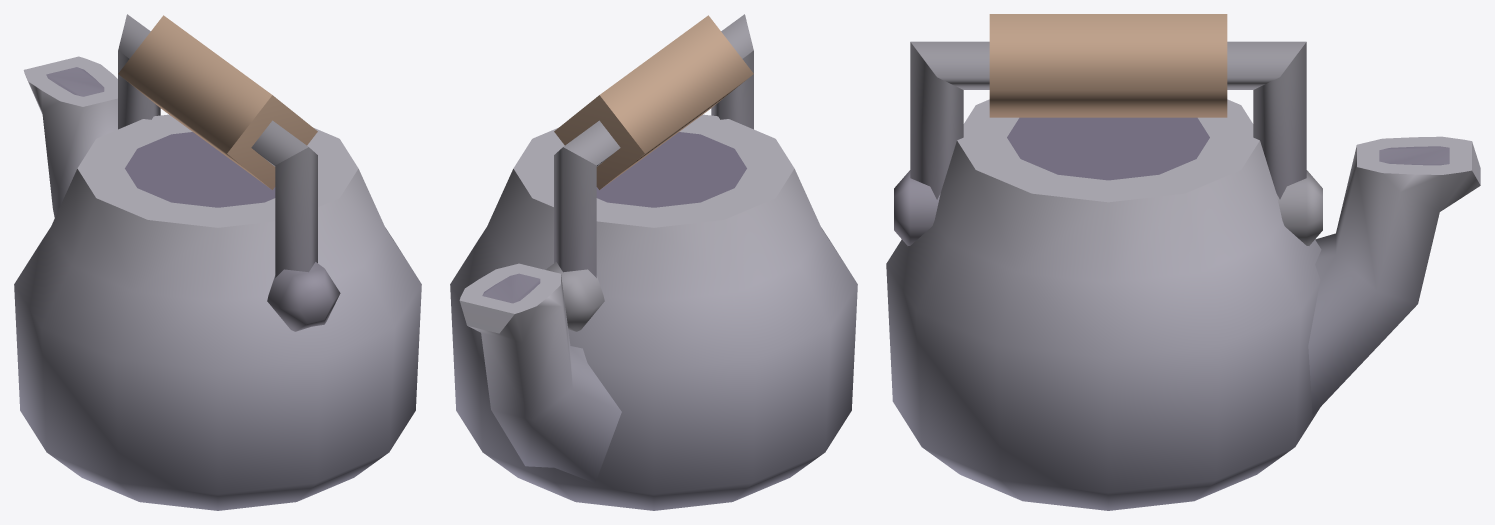
The model's file is tea-kettle.glb.
3 views of the same model, side by side, from view 1: azimuth 30°, elevation 25°; view 2: azimuth 150°, elevation 25°; view 3: azimuth 270°, elevation 25° (orthographic). The views are drawn at different scales.
Parts seen in each view (by area): view 1: tea-kettle; view 2: tea-kettle; view 3: tea-kettle.
Boxes of the visible parts, left/top/right/bottom form: tea-kettle: left=14, top=14, right=421, bottom=510; tea-kettle: left=450, top=14, right=857, bottom=510; tea-kettle: left=886, top=14, right=1480, bottom=510.
Bounding box in the file's own units: 0.2725 × 0.2871 × 0.3644.
